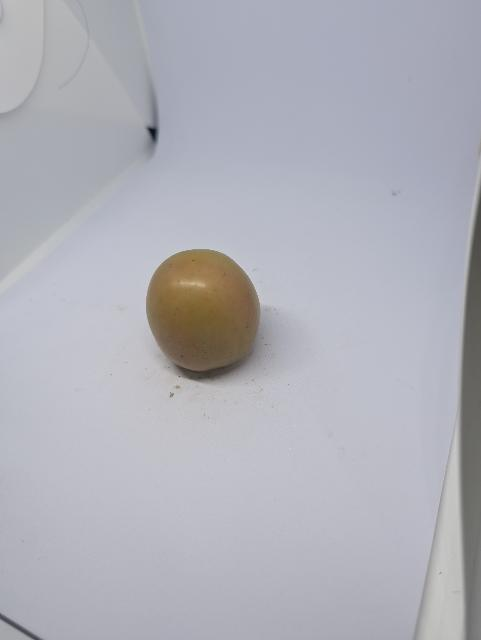breaker: (140, 245, 271, 379)
